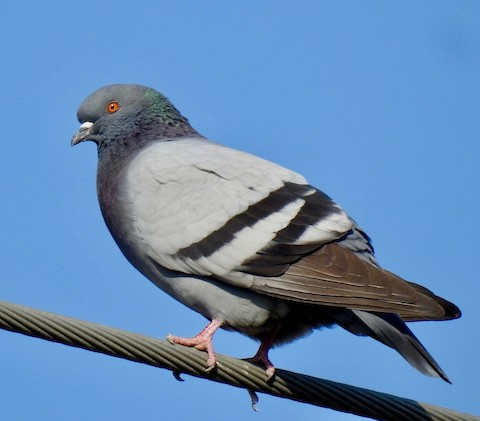pigeon: (68, 81, 464, 411)
